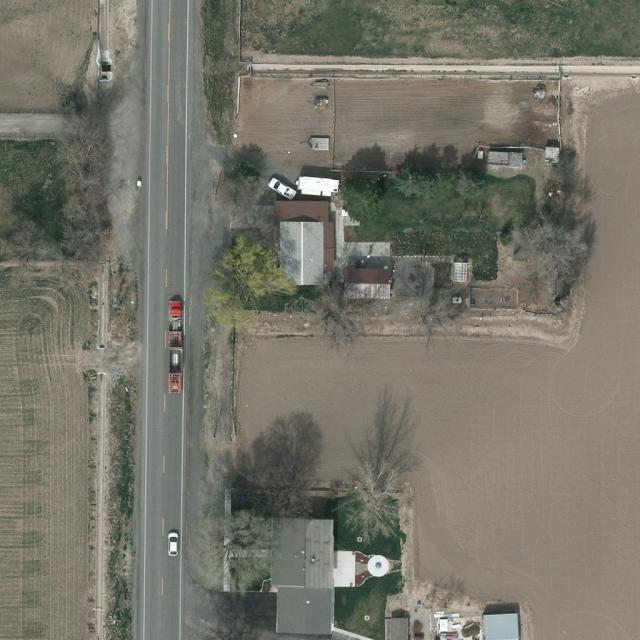vehicle: (165, 299, 184, 395), (267, 178, 298, 200), (168, 532, 180, 556)
